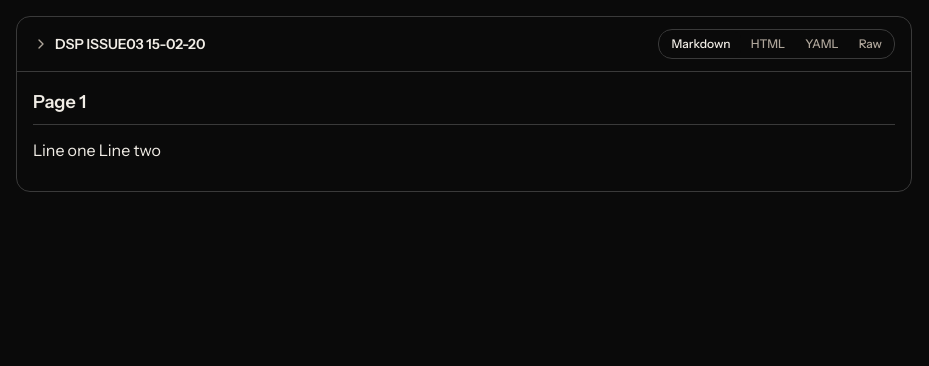
Test: WorkspaceFilePanel › shows the document name with metadata collapsed by default
The width and height of the screenshot is (929, 366).
Check: the heading "DSP ISSUE03 15-02-20" is shown, box [55,34,205,54]
Check: the text "Doc No" is not shown
Click the button named "show document details" at (119, 44), box [33,34,205,54]
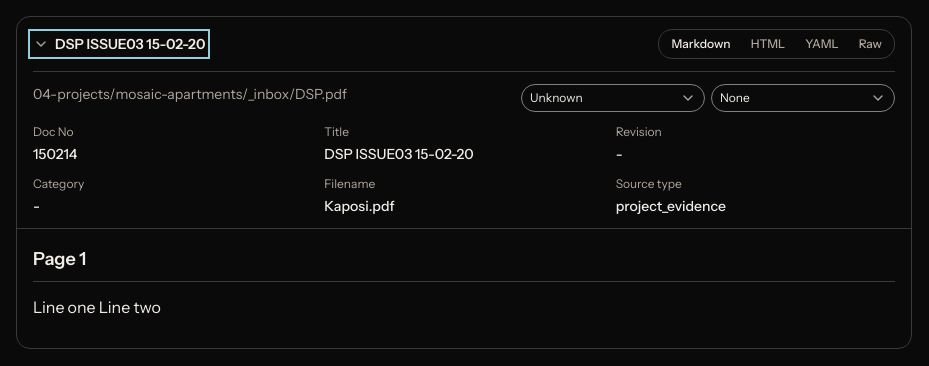
Check: the button named "show document details" is expanded, box [33,34,205,54]
Check: the text "Doc No" is shown, box [33,124,74,139]
Check: the text "150214" is shown, box [33,145,77,163]
